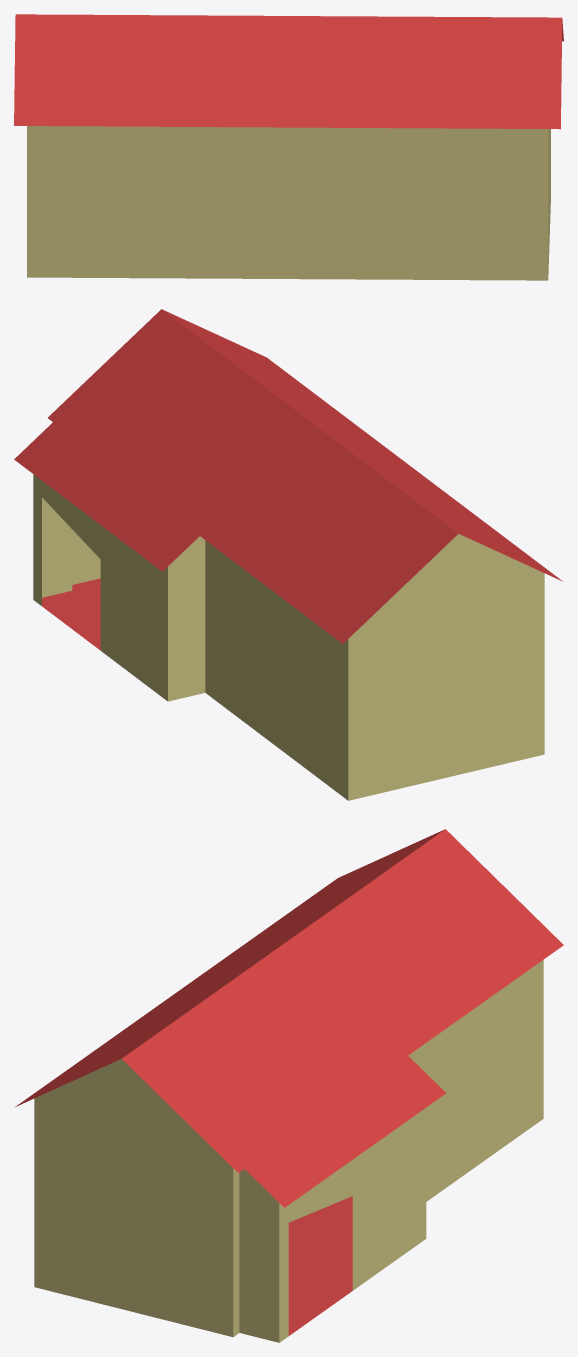
3 renders of one model, top to bottom at view 1: azimuth 30°, elevation 25°; view 2: azimuth 150°, elevation 25°; view 3: azimuth 270°, elevation 25°, orthographic. The views are drawn at different scales.
Size of the model in its own units: 35.07 by 27.93 by 14.44.
